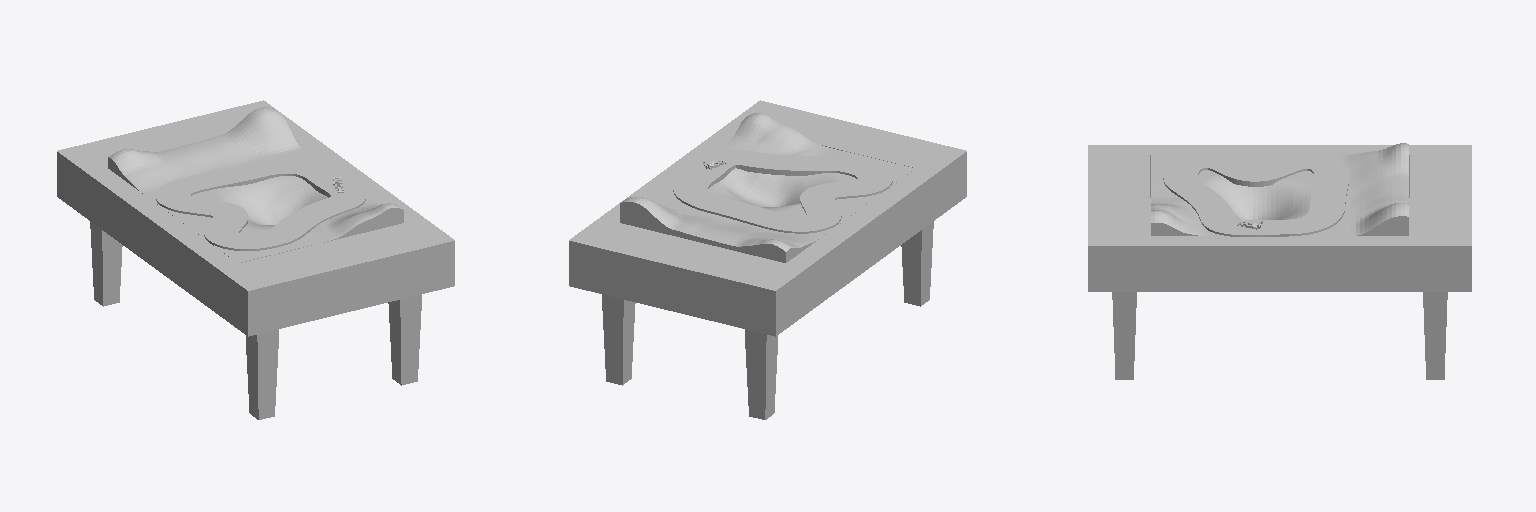
Rendered from NewestTisch28.obj.
3 views of the same model, side by side, from view 1: azimuth 30°, elevation 25°; view 2: azimuth 150°, elevation 25°; view 3: azimuth 270°, elevation 25° (orthographic).
Visible parts, largest first — view 1: Tischplatte_wood_table_001, Landschaft_aerial_grass_rock, off, Bein1_wood_table_001, Bein4_wood_table_001.003, Bein3_wood_table_001.002; view 2: Tischplatte_wood_table_001, Landschaft_aerial_grass_rock, off, Bein2_wood_table_001.001, Bein3_wood_table_001.002, Bein4_wood_table_001.003; view 3: Tischplatte_wood_table_001, Landschaft_aerial_grass_rock, off, Bein1_wood_table_001, Bein2_wood_table_001.001.
Boxes of the visible parts, box(x1,y1,x2,y2) form: Tischplatte_wood_table_001: box(57, 100, 454, 336); Landschaft_aerial_grass_rock: box(108, 107, 403, 262); off: box(156, 159, 365, 250); Bein1_wood_table_001: box(388, 294, 421, 385); Bein4_wood_table_001.003: box(246, 329, 278, 419); Bein3_wood_table_001.002: box(90, 221, 122, 306); Tischplatte_wood_table_001: box(569, 100, 966, 336); Landschaft_aerial_grass_rock: box(620, 113, 915, 262); off: box(673, 150, 892, 233); Bein2_wood_table_001.001: box(602, 294, 635, 385); Bein3_wood_table_001.002: box(745, 329, 777, 419); Bein4_wood_table_001.003: box(901, 221, 933, 306); Tischplatte_wood_table_001: box(1088, 145, 1471, 291); Landschaft_aerial_grass_rock: box(1151, 143, 1408, 235); off: box(1163, 153, 1348, 236); Bein1_wood_table_001: box(1112, 292, 1136, 379); Bein2_wood_table_001.001: box(1423, 292, 1447, 379).
Bounding box in the file's own units: 5 × 3.91 × 8.